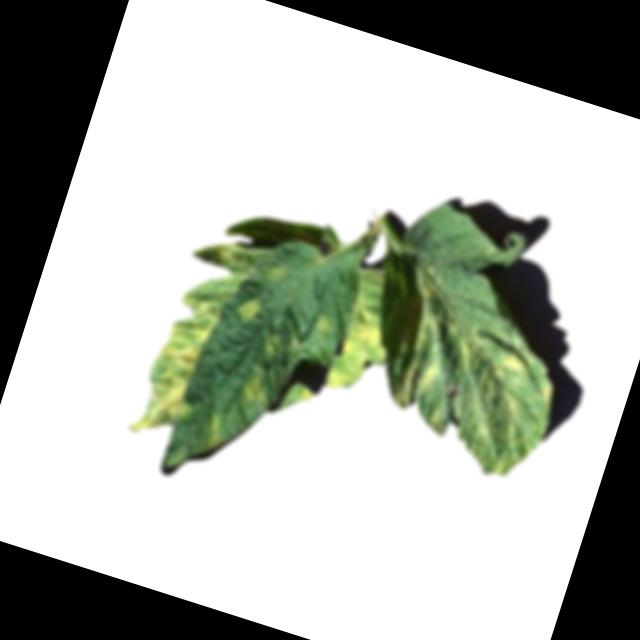Leaf_Mold: (127, 262, 230, 448), (323, 302, 399, 403), (232, 361, 277, 421), (491, 345, 537, 392), (413, 358, 446, 400), (233, 294, 267, 329), (531, 376, 558, 411)
